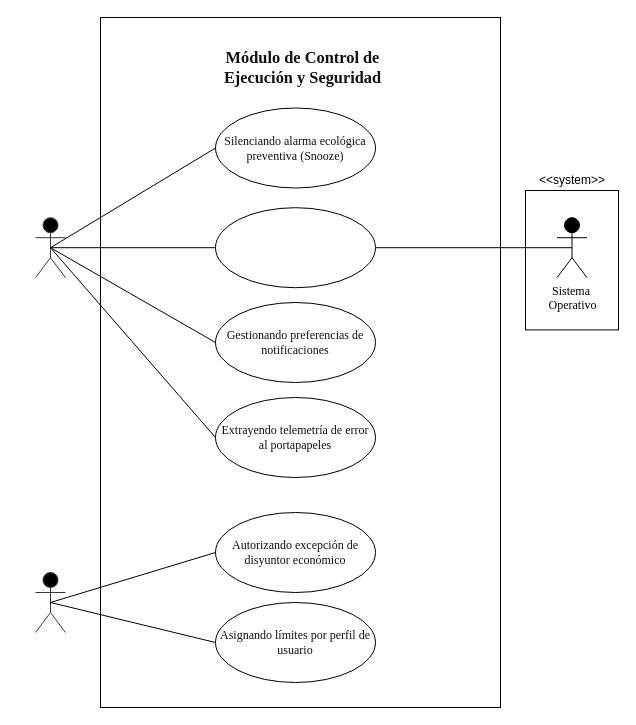
Image size: 636x725. Some labels were removed from this diagram. The shapes that lost their labels are listed below. From the top down, each one's centre as x and y in pixels, then its label:
the point at 50,247: Usuario (Operador)
the point at 295,247: Emitiendo alerta de finalización al SO
the point at 50,602: Usuario administrador
